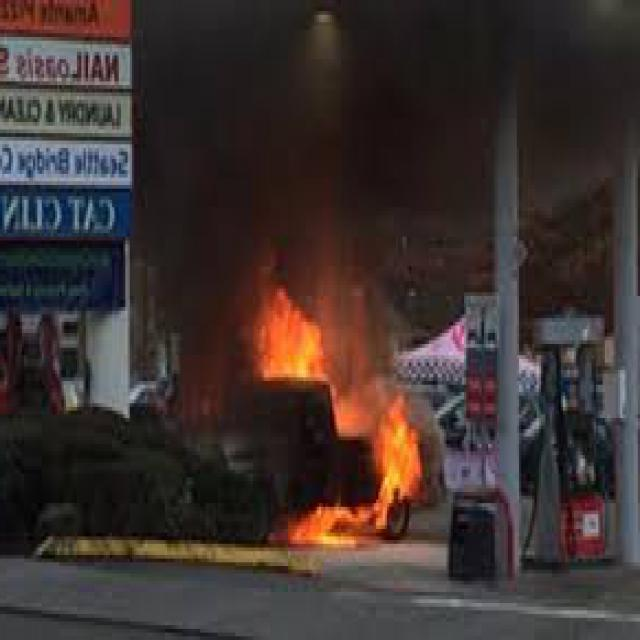Fire: (237, 264, 435, 556)
Smoke: (137, 0, 640, 282)
